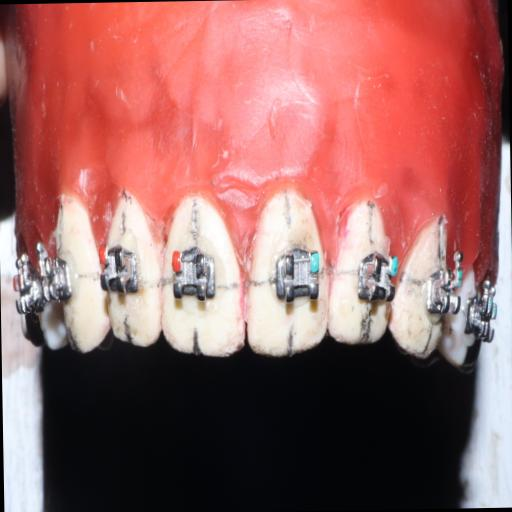incorrect_brace: (270, 240, 327, 307), (166, 240, 222, 308)
